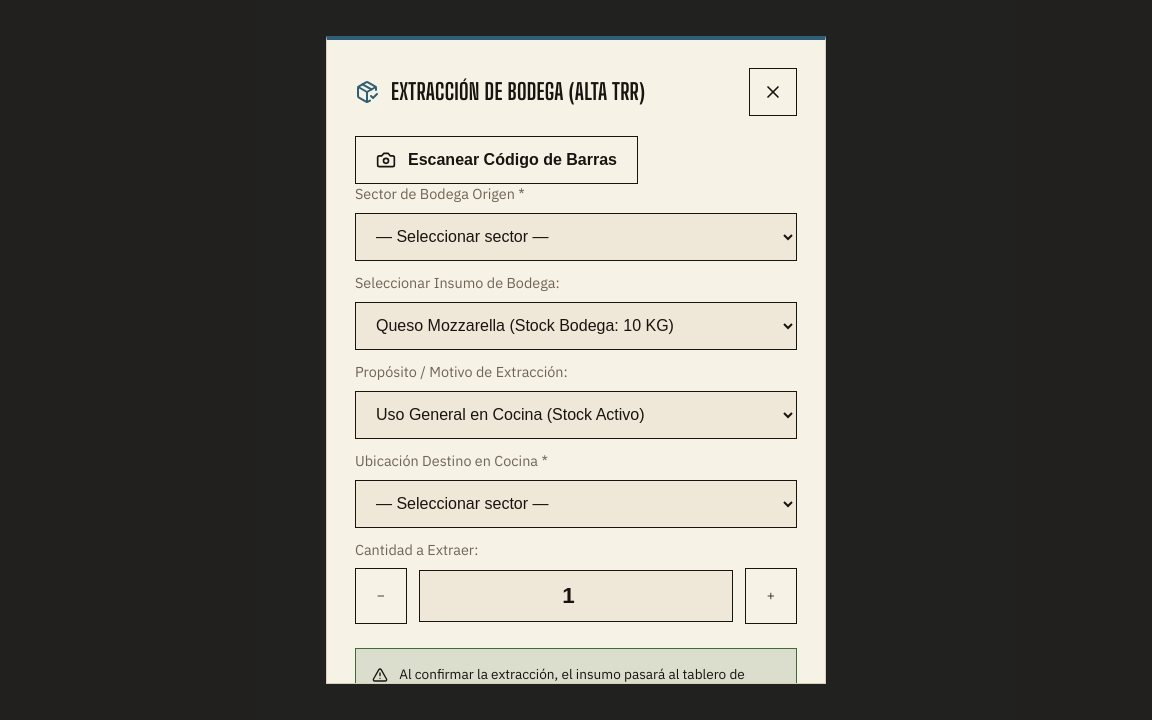
Test case: TK-100-FE (AUDIT-DEV-006): errores reales del backend y aritmética decimal › F-6: el stepper suma en decimal exacto (1.0 +0.5 ×3 = 2.5, sin 2.4999…)
Expected: the number field labelled "Cantidad a Extraer:" holds "1", [419,570,733,622]
Step 1. Click the button with id "btn-increment-qty" → [771, 596], box [745,568,797,624]
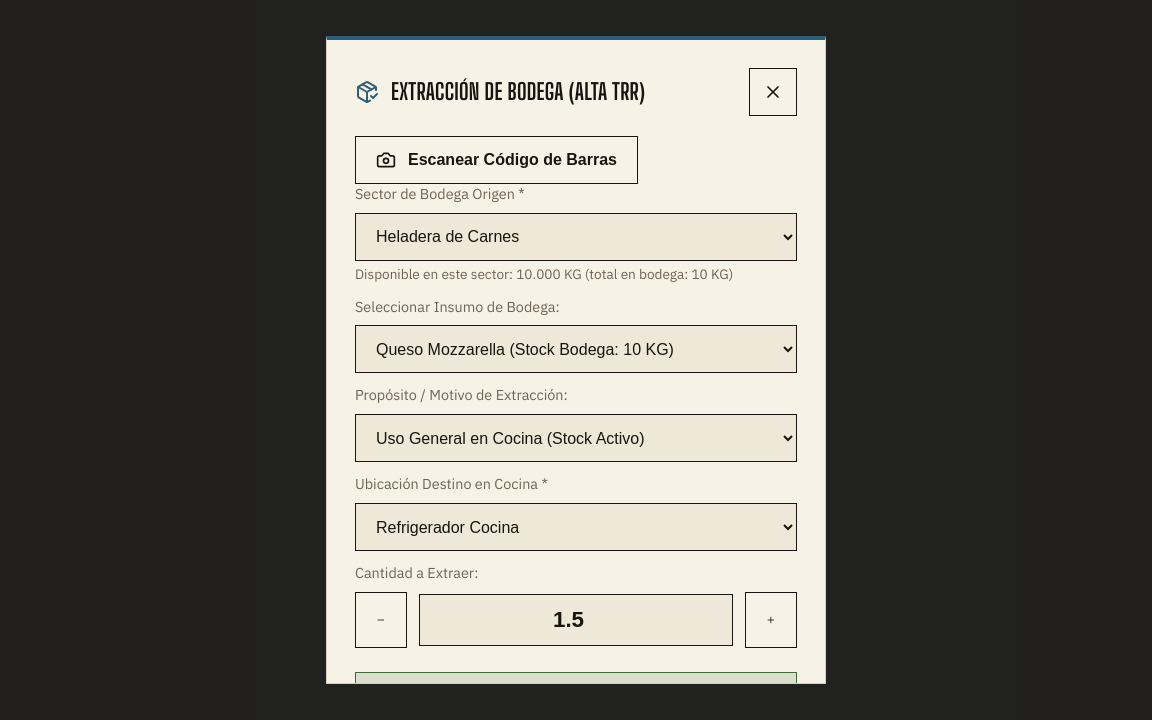
Step 2. Click the button with id "btn-increment-qty" → [771, 620], box [745,592,797,648]
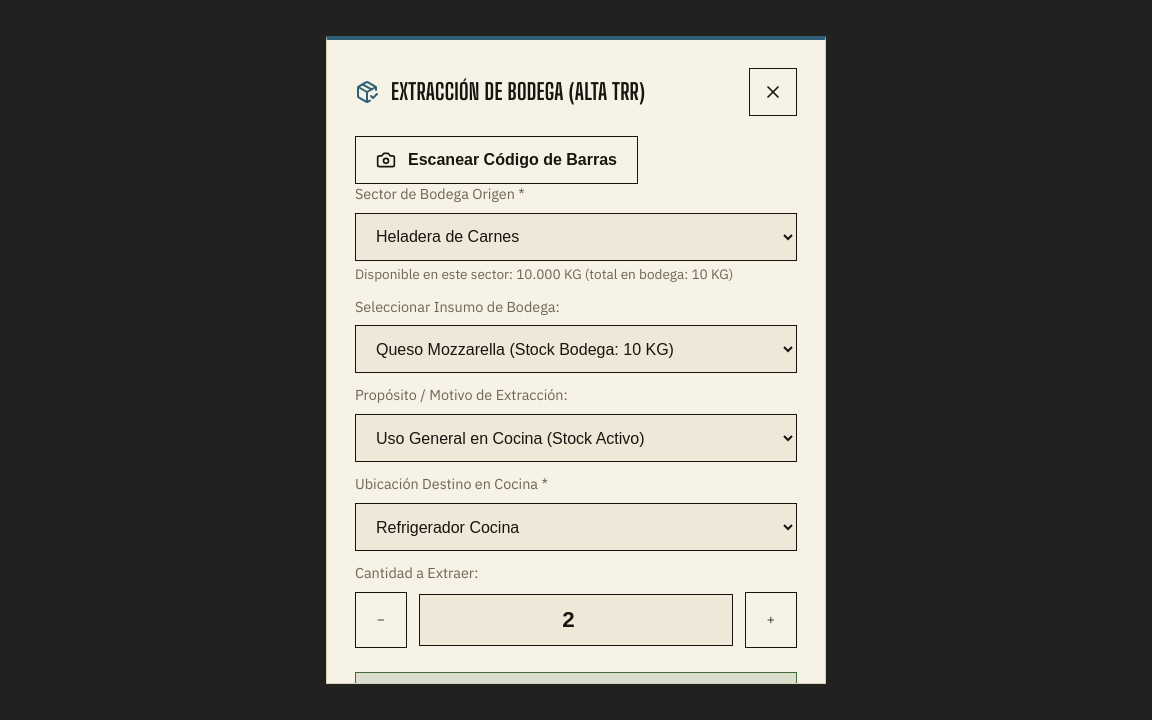
Step 3. Click the button with id "btn-increment-qty" → [771, 620], box [745,592,797,648]
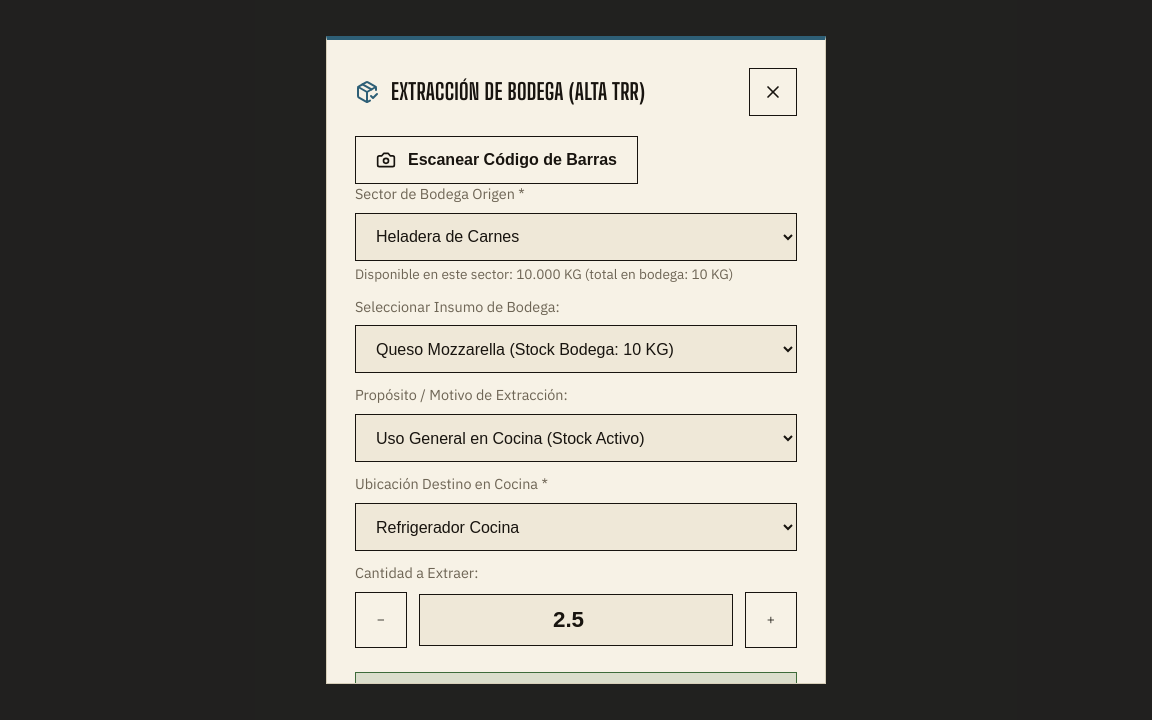
Result: the number field labelled "Cantidad a Extraer:" holds "2.5" at [419,594,733,646]
